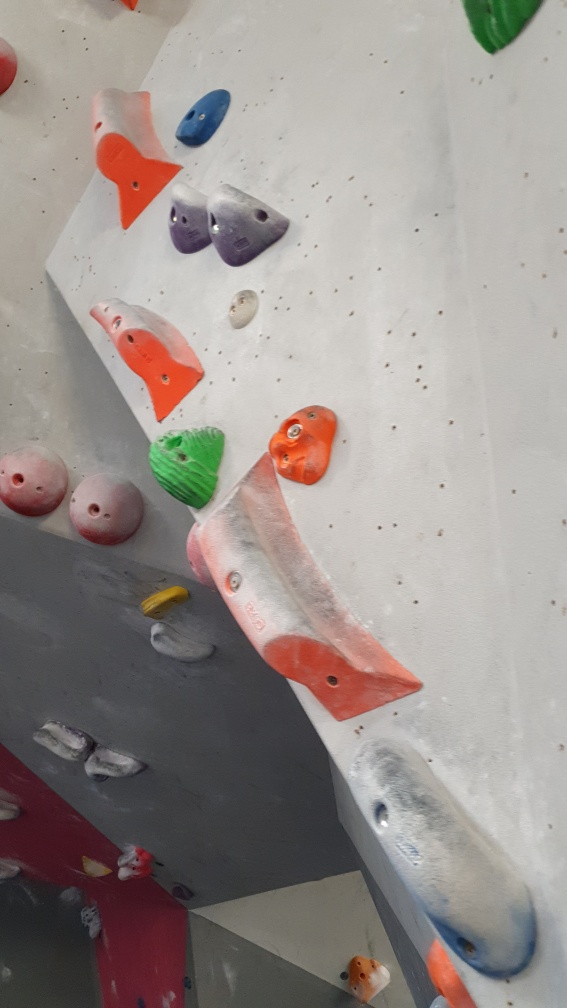Crimp: (176, 85, 236, 148)
Jug: (206, 178, 291, 269), (142, 423, 227, 509), (167, 175, 223, 255)
Pinch: (195, 450, 429, 727), (348, 731, 539, 982), (86, 294, 206, 427), (86, 79, 186, 229)
Sloper: (68, 469, 152, 549), (1, 438, 72, 519)
